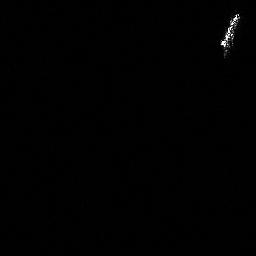ship: (217, 10, 245, 60)
